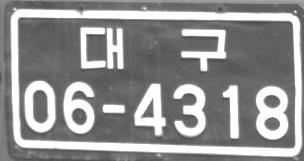0: (24, 79, 56, 133)
1: (216, 83, 250, 139)
3: (173, 81, 206, 139)
4: (133, 82, 166, 136)
6: (62, 80, 95, 135)
8: (255, 84, 289, 139)
대구_D: (79, 25, 227, 71)
